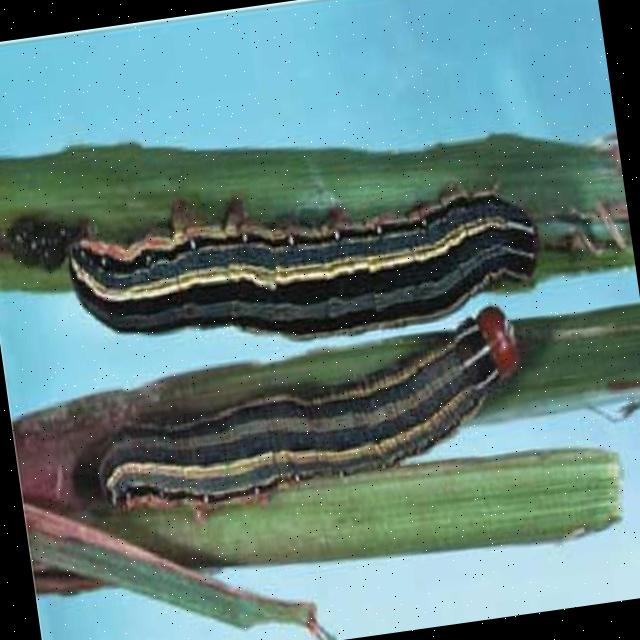worm: (59, 151, 551, 377), (82, 304, 540, 534)
